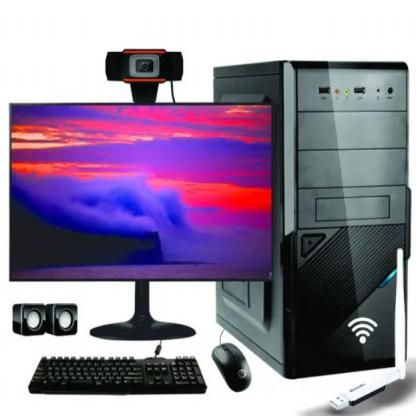DESKTOP: (0, 15, 416, 414)
